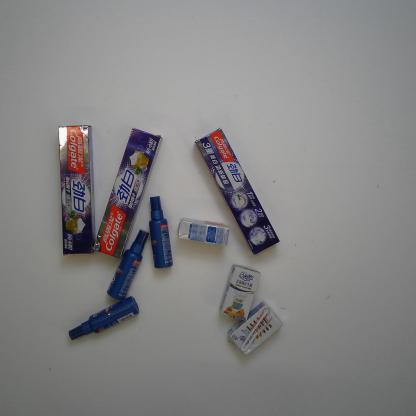Milk: (226, 300, 286, 357), (216, 264, 261, 323), (176, 216, 230, 248)
Personal Hygiene: (193, 125, 281, 255), (92, 127, 165, 260), (57, 124, 97, 257), (67, 294, 140, 341), (104, 228, 150, 302), (146, 192, 176, 270)
